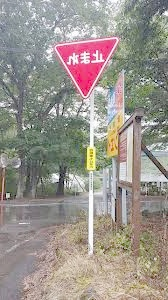Regulatory_sign_triangle: (49, 34, 125, 103)
